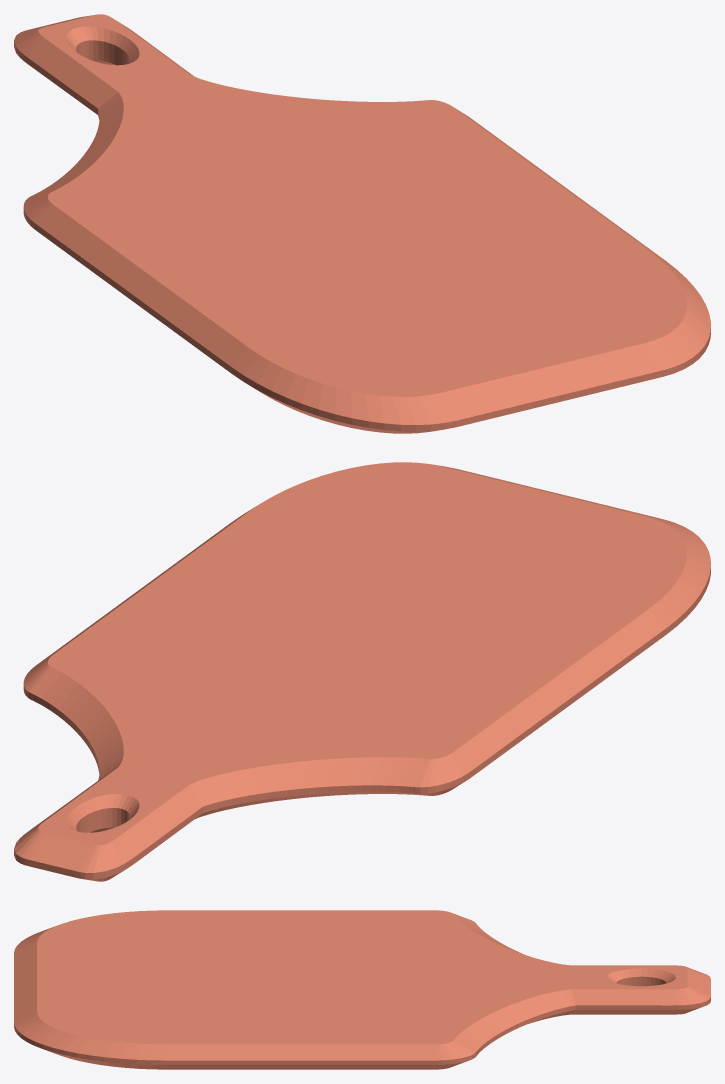
The model's file is cutPlank.fbx.
3 renders of one model, top to bottom at view 1: azimuth 30°, elevation 25°; view 2: azimuth 150°, elevation 25°; view 3: azimuth 270°, elevation 25°, orthographic. The views are drawn at different scales.
Parts seen in each view (by area): view 1: Cube; view 2: Cube; view 3: Cube.
Boxes of the visible parts, x1,y1,x2,y2 form: Cube: [14, 14, 710, 433]; Cube: [14, 462, 710, 881]; Cube: [14, 910, 710, 1069].
Size of the model in its own units: 129 by 10.43 by 261.
